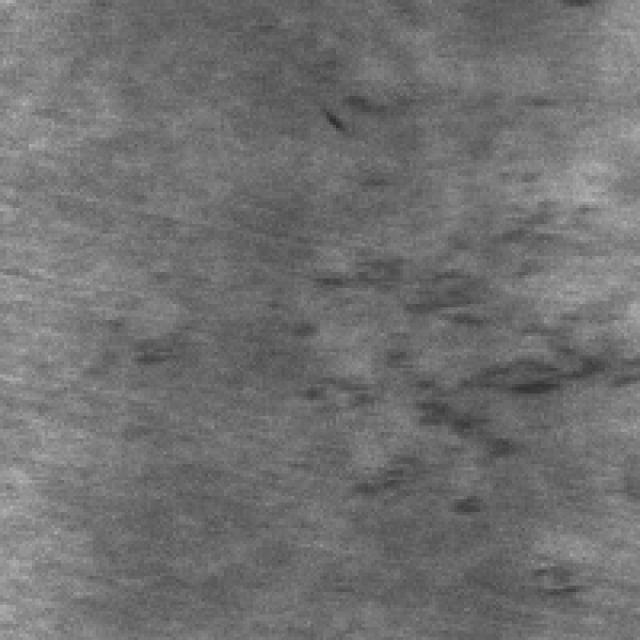rolled-in_scale: (314, 195, 640, 515), (317, 64, 557, 176)
